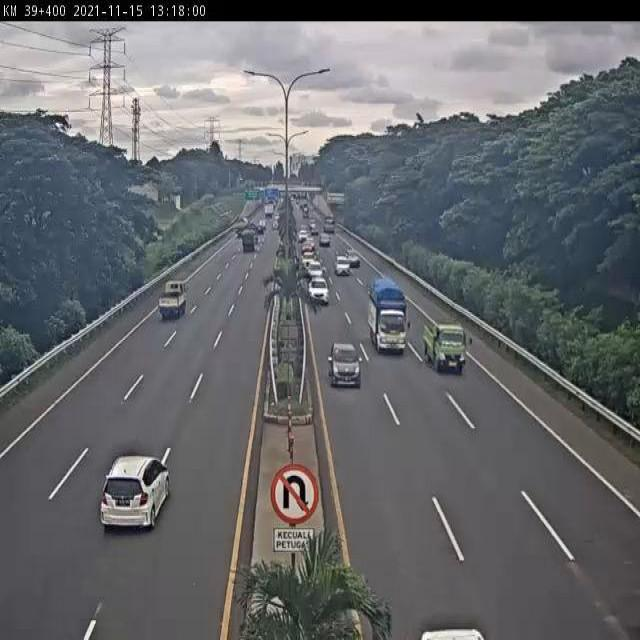car: (99, 456, 171, 532), (327, 342, 361, 389), (306, 275, 330, 308)
small bus: (155, 279, 188, 320)
truck-l-: (366, 275, 410, 353)
truck-s-: (422, 320, 467, 377)
